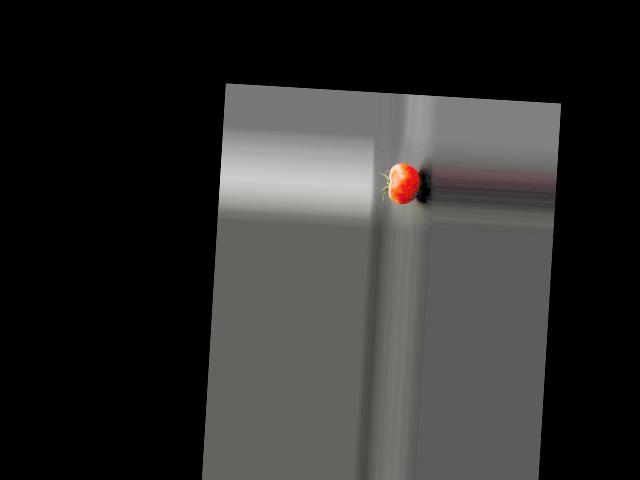tomato: (387, 161, 420, 204)
